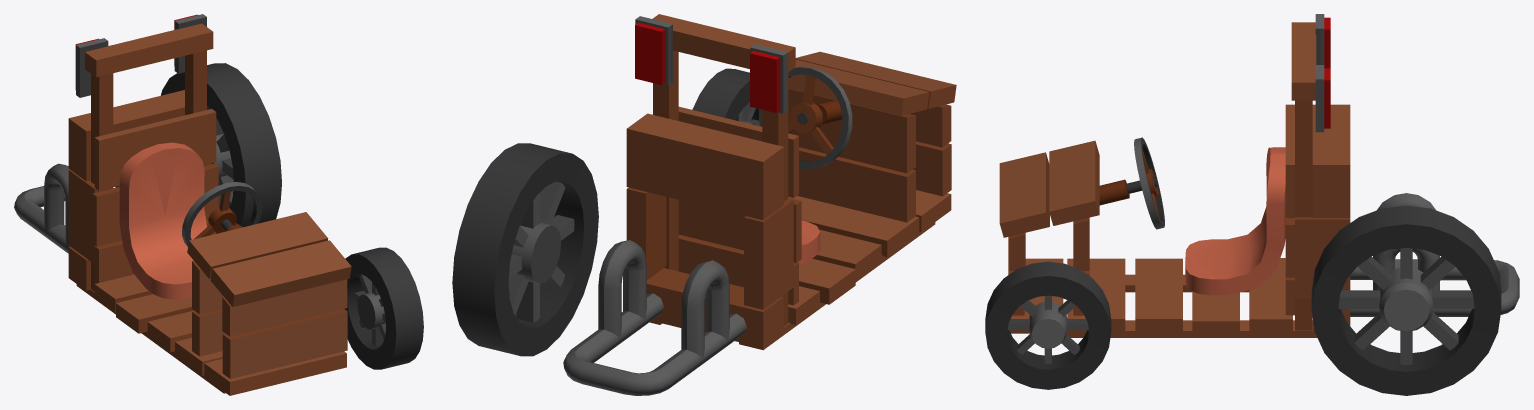
Rendered from Yashik.fbx.
The picture shows the model from 3 angles, left to right: view 1: azimuth 30°, elevation 25°; view 2: azimuth 150°, elevation 25°; view 3: azimuth 270°, elevation 25°; orthographic projection. The views are drawn at different scales.
Parts seen in each view (by area): view 1: Yashik 01 Kuzov Wood, Yashik 01 Koleso Big Back, Yashik 02 Koleso Small Front, Yashik 02 Koleso Big Back, Yashik 01 Koleso Small Front, Yashik 01 Rul; view 2: Yashik 01 Kuzov Wood, Yashik 01 Koleso Big Back, Yashik 02 Koleso Big Back, Yashik 01 Rul, Yashik 01 Koleso Small Front, Yashik 02 Koleso Small Front; view 3: Yashik 01 Kuzov Wood, Yashik 02 Koleso Big Back, Yashik 01 Koleso Small Front, Yashik 01 Koleso Big Back, Yashik 01 Rul, Yashik 02 Koleso Small Front.
Part boxes in pixels (x1,y1,x2,y2): Yashik 01 Kuzov Wood: [14, 14, 351, 395]; Yashik 01 Koleso Big Back: [161, 63, 281, 233]; Yashik 02 Koleso Small Front: [344, 247, 423, 369]; Yashik 02 Koleso Big Back: [207, 63, 281, 226]; Yashik 01 Koleso Small Front: [347, 248, 423, 369]; Yashik 01 Rul: [182, 182, 262, 246]; Yashik 01 Kuzov Wood: [563, 14, 956, 395]; Yashik 01 Koleso Big Back: [452, 143, 598, 356]; Yashik 02 Koleso Big Back: [452, 143, 583, 350]; Yashik 01 Rul: [759, 66, 852, 169]; Yashik 01 Koleso Small Front: [692, 68, 759, 124]; Yashik 02 Koleso Small Front: [695, 68, 759, 126]; Yashik 01 Kuzov Wood: [999, 14, 1519, 337]; Yashik 02 Koleso Big Back: [1311, 205, 1501, 395]; Yashik 01 Koleso Small Front: [985, 261, 1111, 389]; Yashik 01 Koleso Big Back: [1311, 207, 1496, 371]; Yashik 01 Rul: [1099, 137, 1164, 229]; Yashik 02 Koleso Small Front: [990, 266, 1089, 366].
Size of the model in its own units: 1.24 by 1.56 by 2.71.
